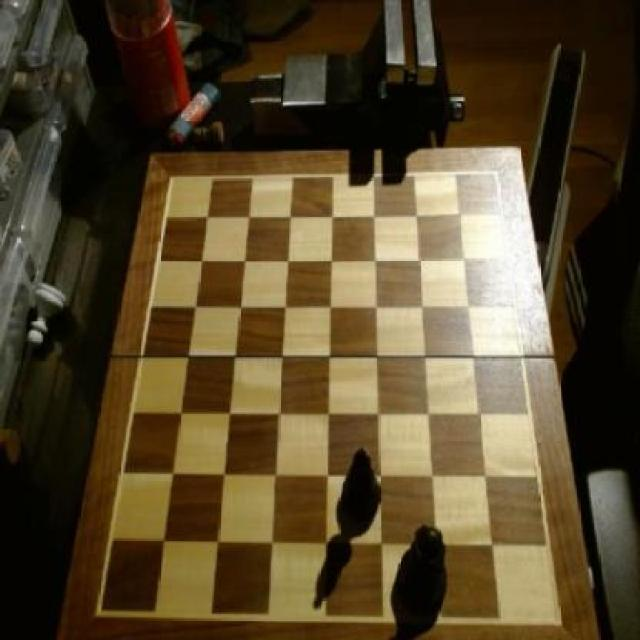bishop: (342, 442, 382, 522)
black-pawn: (396, 523, 452, 619)
